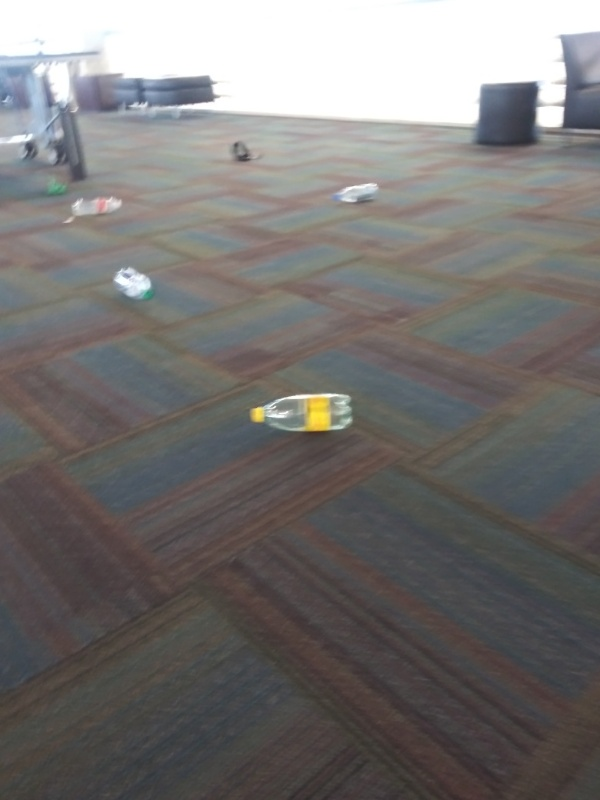bottle: (244, 390, 356, 439), (109, 265, 156, 302), (327, 181, 386, 205), (70, 194, 125, 219)
